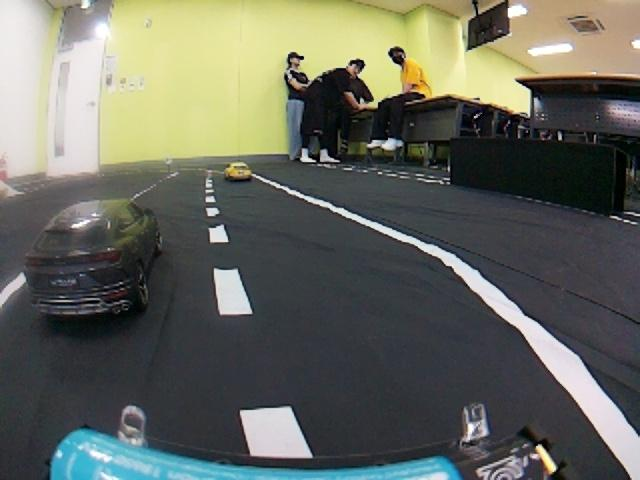objects: (1, 140, 570, 480)
